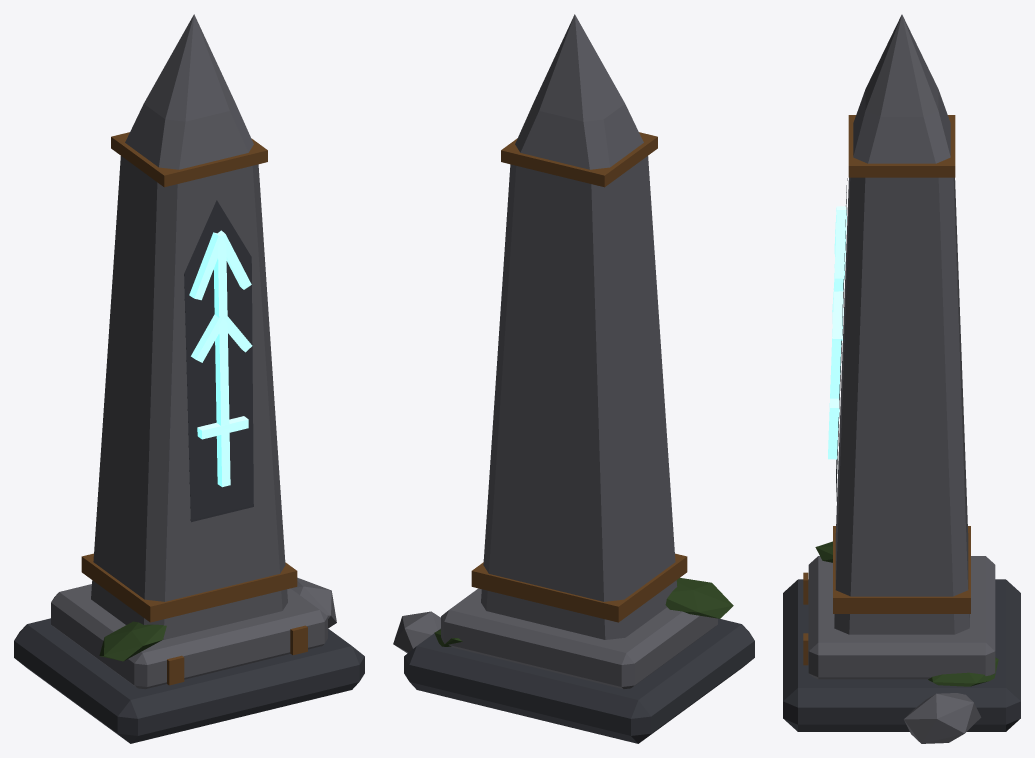
The model's file is Soul_Obelisk.glb.
3 renders of one model, left to right at view 1: azimuth 30°, elevation 25°; view 2: azimuth 150°, elevation 25°; view 3: azimuth 270°, elevation 25°, orthographic.
Visible parts, largest first — view 1: Soul_Obelisk; view 2: Soul_Obelisk; view 3: Soul_Obelisk.
Boxes of the visible parts, bbox=[...] form: Soul_Obelisk: bbox=[14, 14, 364, 743]; Soul_Obelisk: bbox=[393, 14, 754, 743]; Soul_Obelisk: bbox=[783, 14, 1020, 743].
Bounding box in the file's own units: 1.21 × 2.72 × 0.88.
